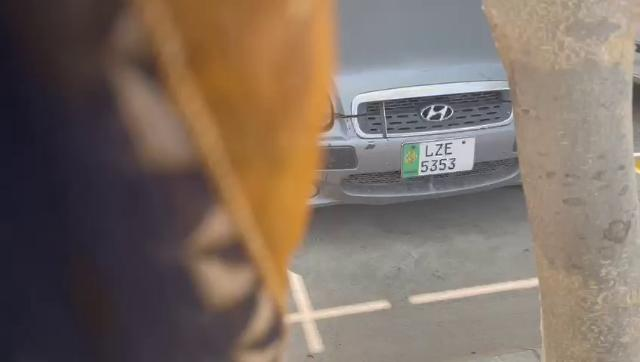plate: (398, 136, 478, 183)
